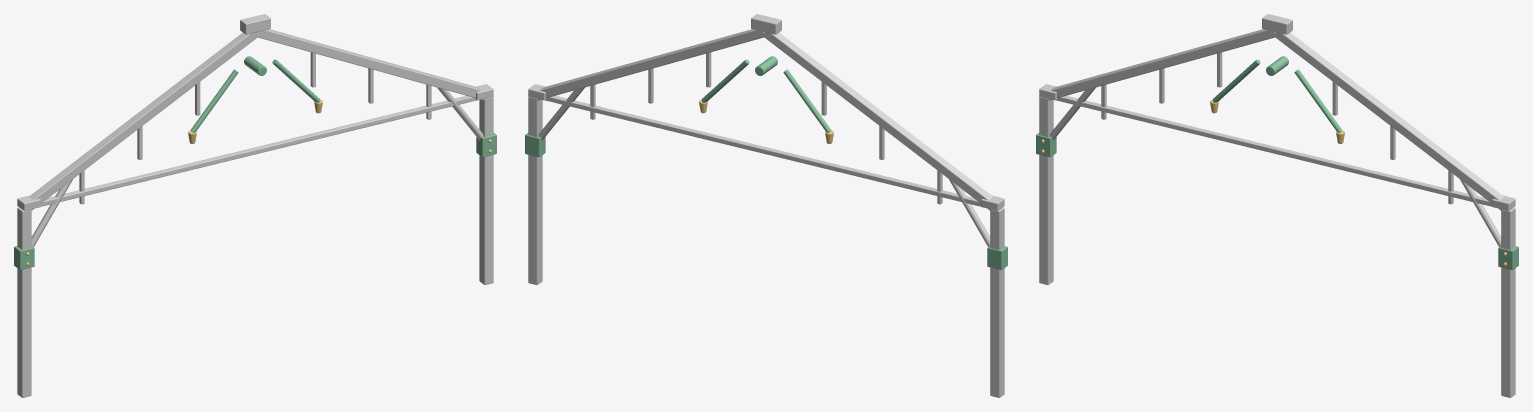
Rendered from gewaechshaus_bogen.glb.
3 renders of one model, left to right at view 1: azimuth 30°, elevation 25°; view 2: azimuth 150°, elevation 25°; view 3: azimuth 330°, elevation 25°, orthographic.
Visible parts, largest first — view 1: gewaechshaus_bogen_lod0; view 2: gewaechshaus_bogen_lod0; view 3: gewaechshaus_bogen_lod0.
Part boxes in pixels (x1,y1,x2,y2): gewaechshaus_bogen_lod0: (14, 14, 496, 397); gewaechshaus_bogen_lod0: (525, 14, 1007, 397); gewaechshaus_bogen_lod0: (1036, 14, 1518, 397).
Size of what is drawn, in the model's own units: 22.7 by 14.55 by 1.2.
